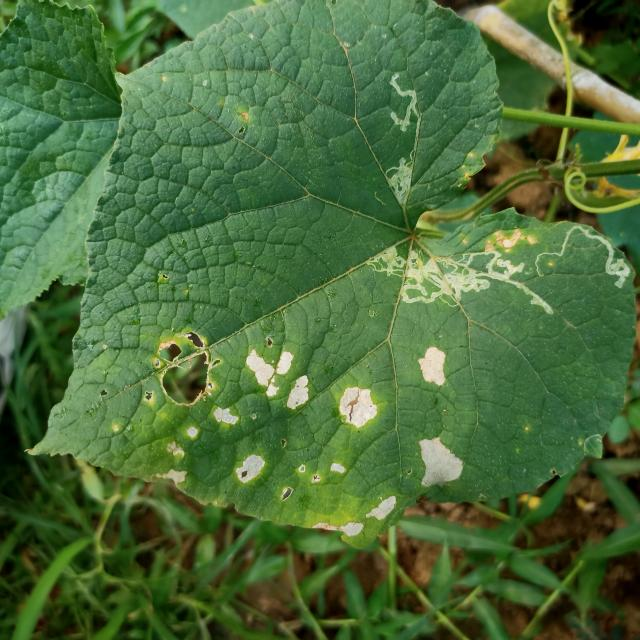disease_cucumber: (114, 321, 399, 543), (408, 340, 470, 498)
